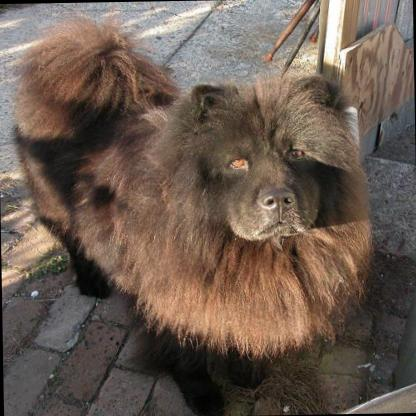chow: (13, 15, 370, 416)
